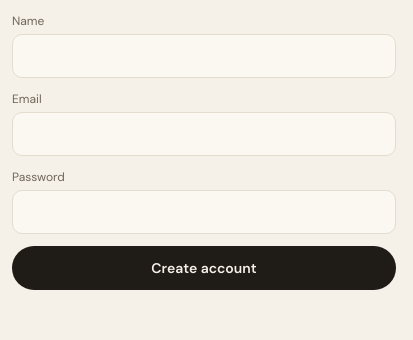
Test: AuthForm › sign-up also sends the name and shows an API error
Type "Renzo" into the field labelled "Name" at (204, 56), box [12,34,396,78]
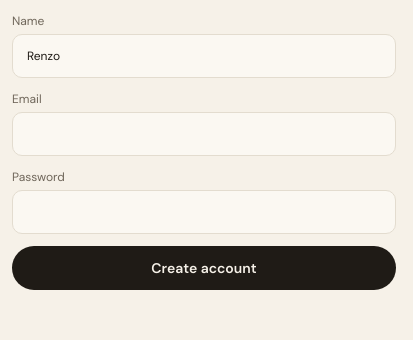
Type "r@x.com" into the field labelled "Email" at (204, 134), box [12,112,396,156]
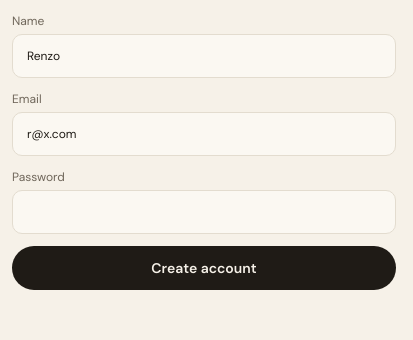
Type "pw12345678" into the password field labelled "Password" at (204, 212), box [12,190,396,234]
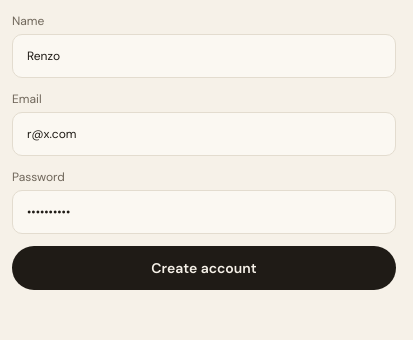
Click the button "Create account" at (204, 268), box [12,246,396,290]
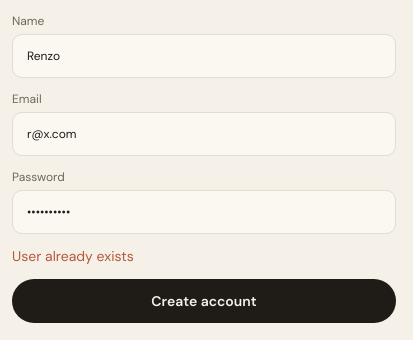
Result: the message reads "User already exists" at [12,247,134,265]
